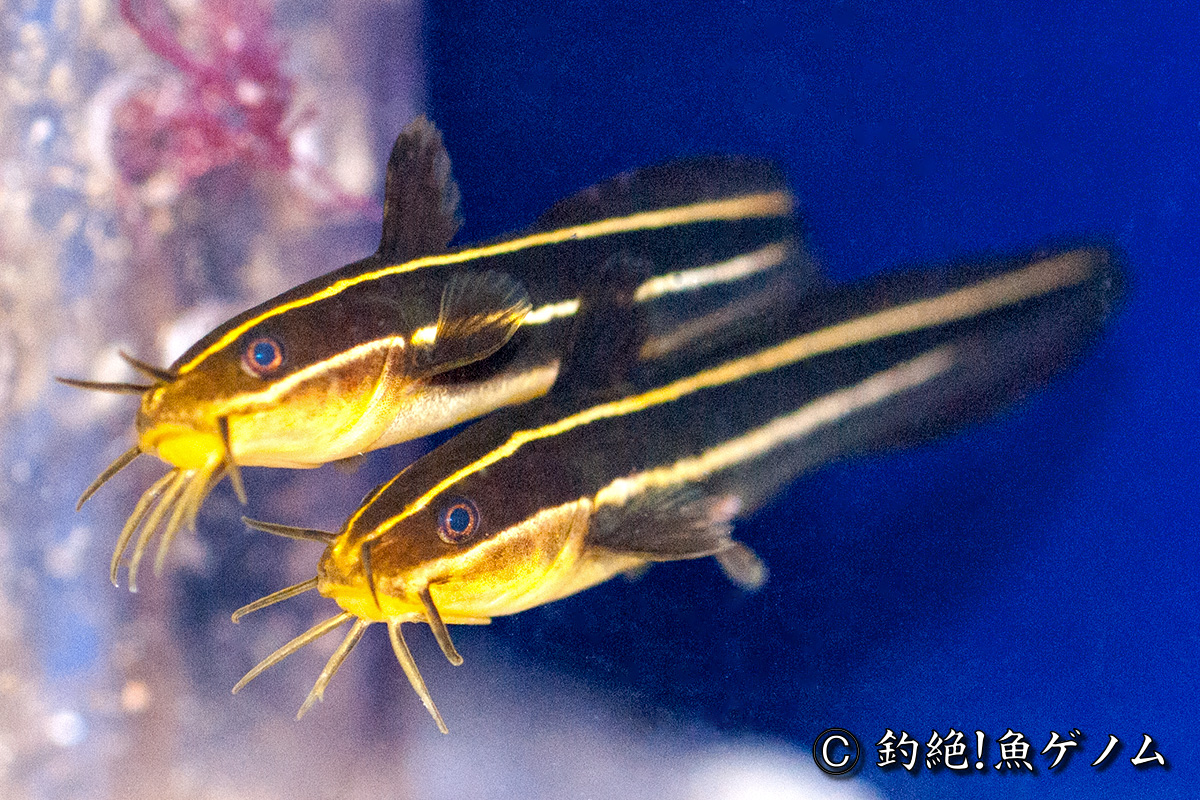gonzui: (231, 308, 1186, 657), (68, 233, 751, 459)
